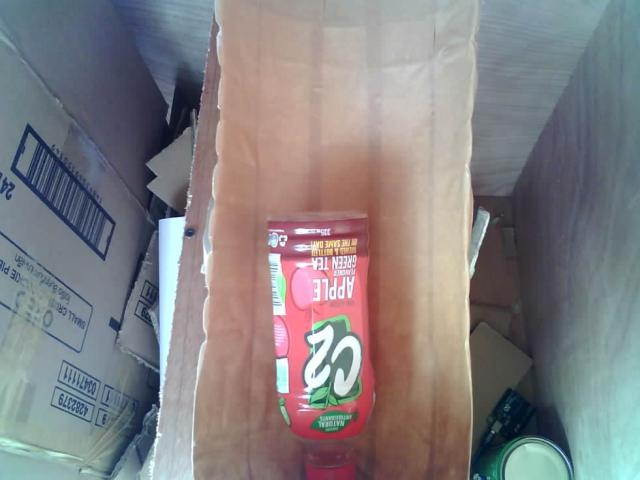small_bottle: (248, 200, 386, 480)
